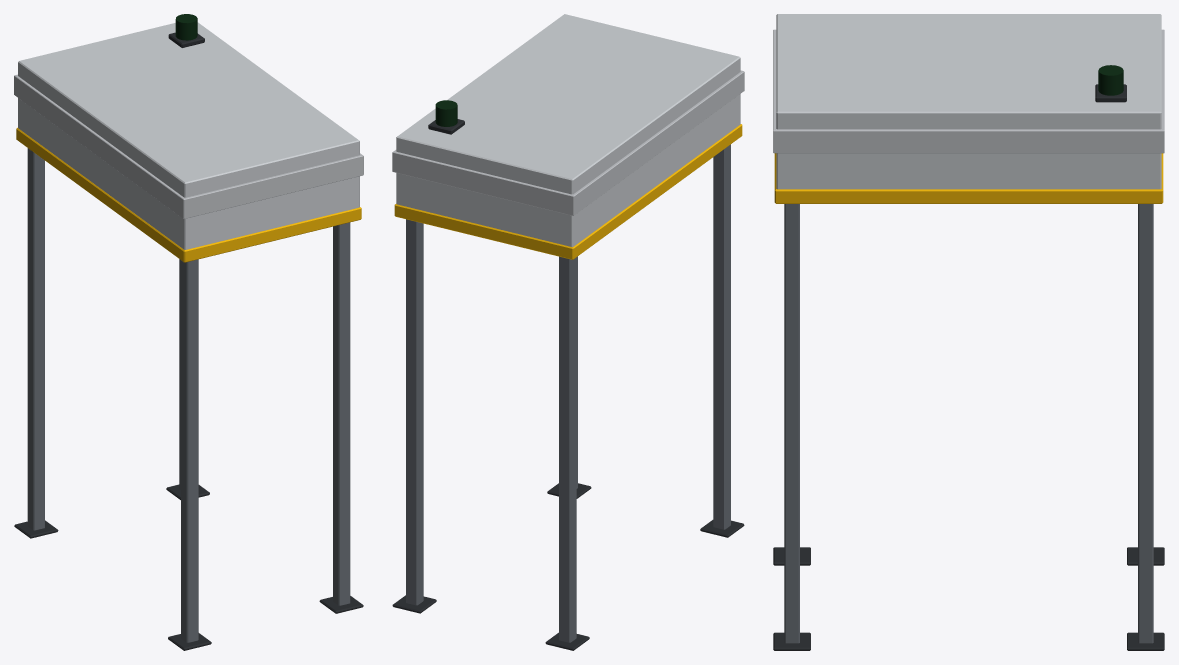
Rendered from emitter_raw_metal.glb.
The picture shows the model from 3 angles, left to right: view 1: azimuth 30°, elevation 25°; view 2: azimuth 150°, elevation 25°; view 3: azimuth 270°, elevation 25°; orthographic projection. The views are drawn at different scales.
Visible parts, largest first — view 1: Emitter_Static, Band, EmitterLamp; view 2: Emitter_Static, Band, EmitterLamp; view 3: Emitter_Static, Band, EmitterLamp.
Boxes of the visible parts, x1,y1,x2,y2 form: Emitter_Static: [14, 22, 363, 650]; Band: [14, 74, 363, 218]; EmitterLamp: [175, 14, 197, 40]; Emitter_Static: [392, 14, 744, 650]; Band: [392, 70, 744, 215]; EmitterLamp: [435, 100, 457, 126]; Emitter_Static: [773, 14, 1164, 650]; Band: [773, 29, 1164, 153]; EmitterLamp: [1098, 65, 1123, 95].
Bounding box in the file's own units: 0.76 × 1.97 × 1.24.
